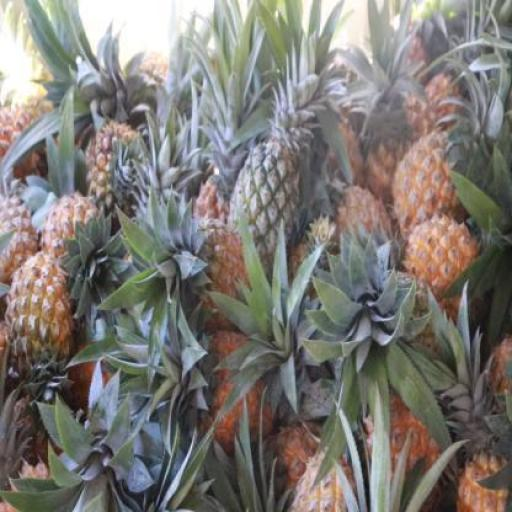Pineapple - v8 v1: (9, 258, 70, 384), (392, 134, 463, 236), (402, 217, 474, 305)
